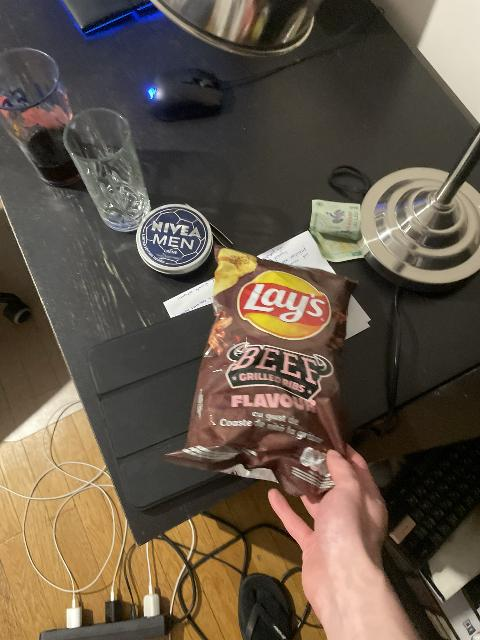Lays Beef Grilled Ribs 125g: (164, 246, 359, 494)
